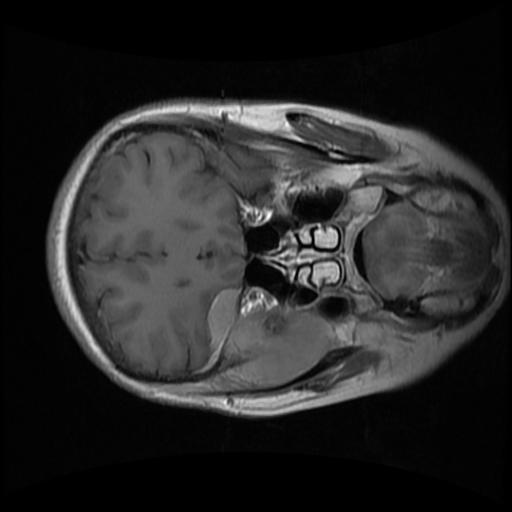meningioma: (205, 287, 241, 349)
